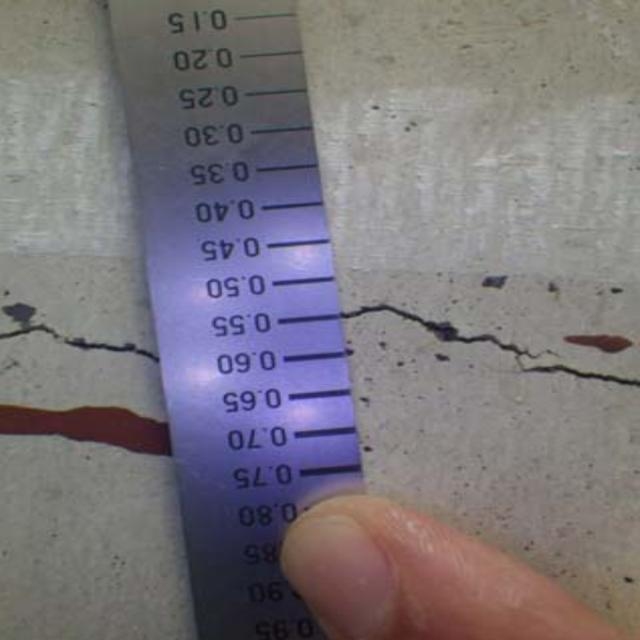crack: (346, 279, 637, 407), (2, 311, 167, 373)
